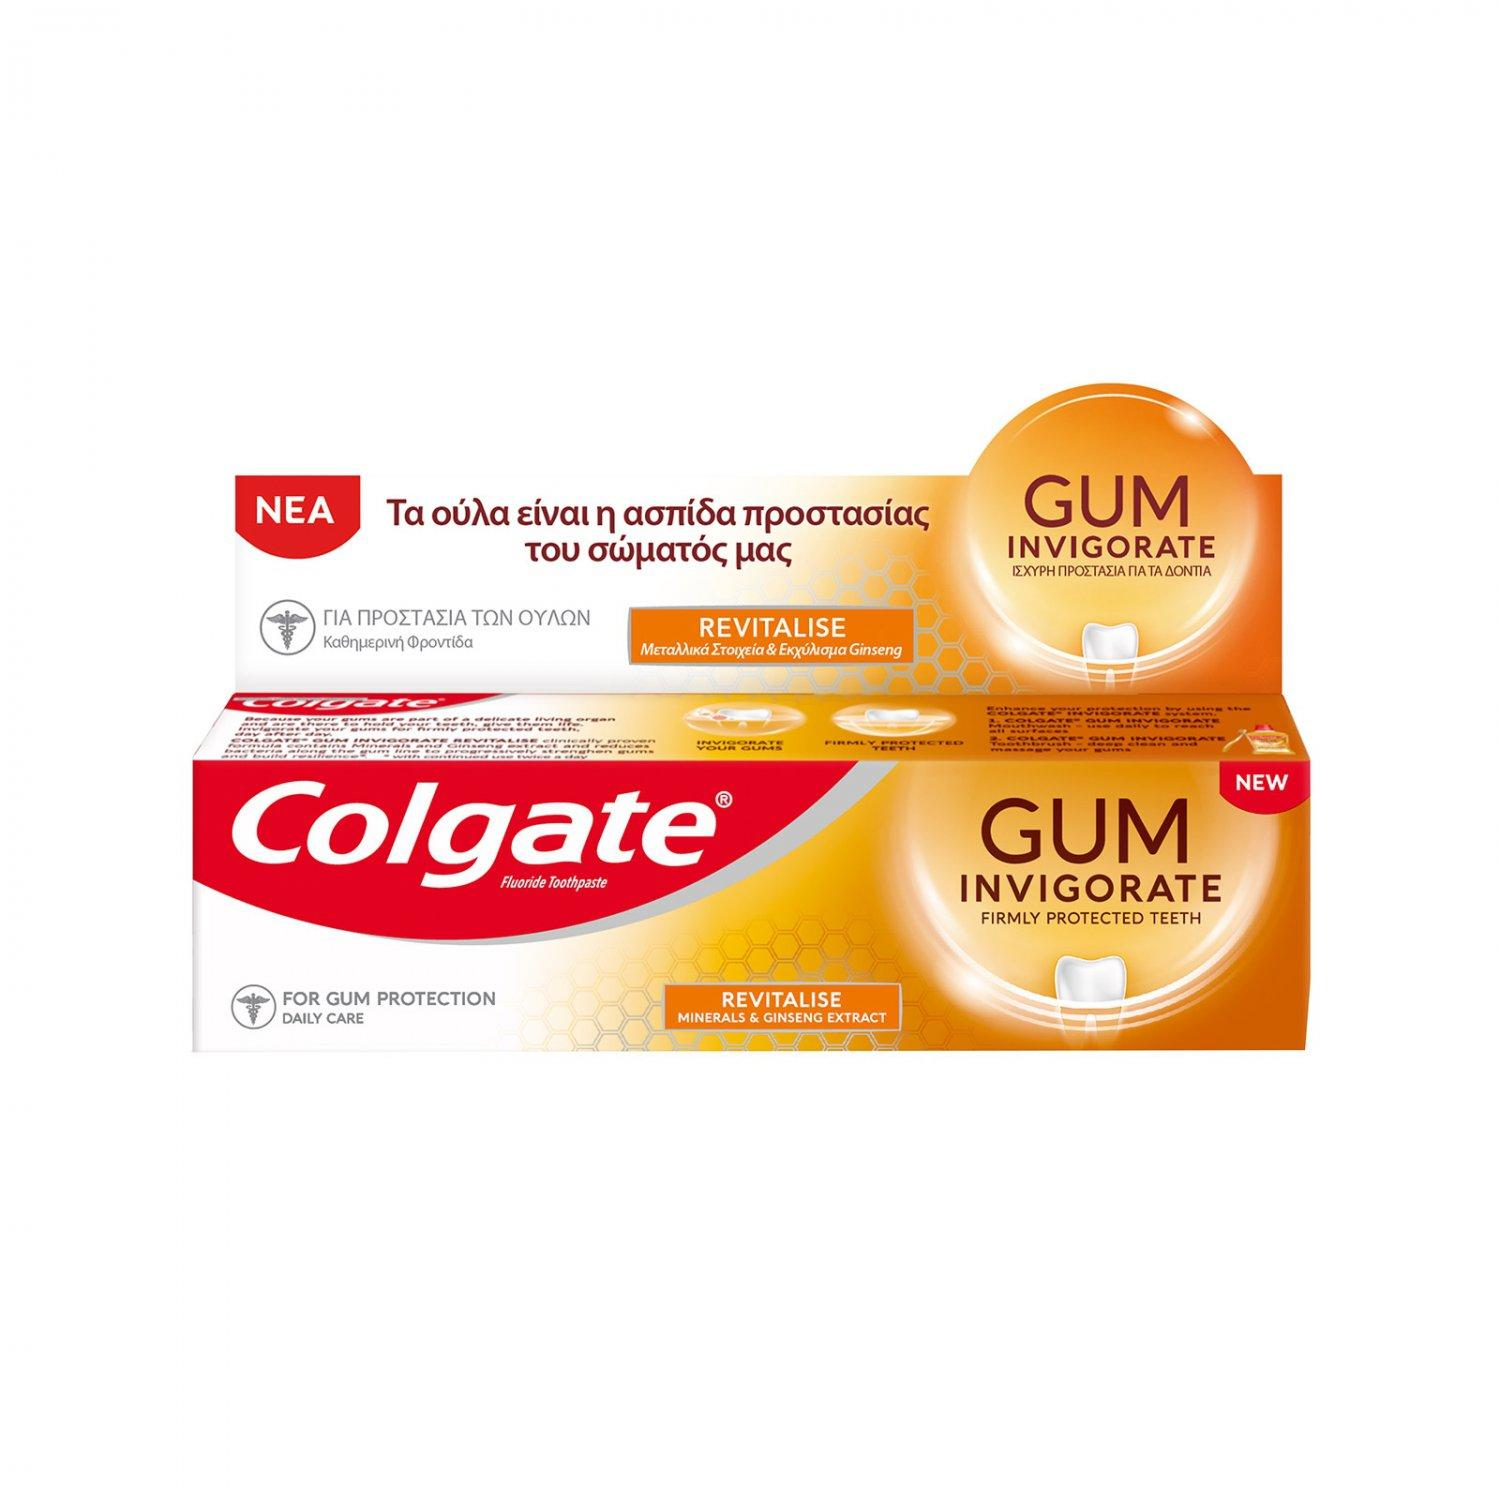toothpaste: (158, 691, 1341, 1082)
